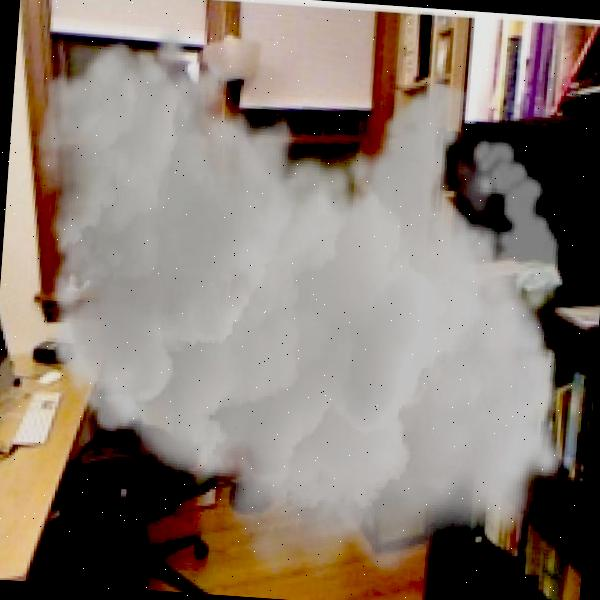smoke: (3, 14, 596, 600)
